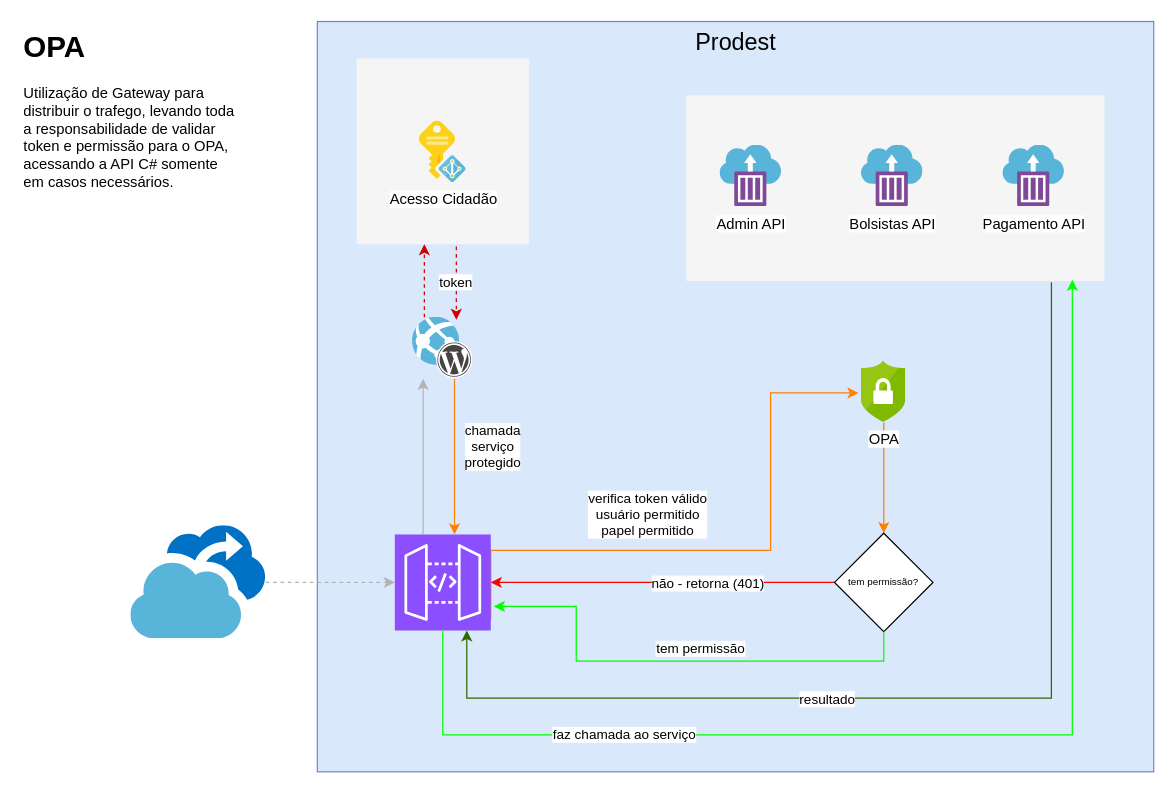
The diagram is 1175 pixels wide and 793 high, and some of its shapes have lost their labels. The shapes that lost their labels are listed below. From the top down, each one's box as (x1, y1, x2, y2) in pixels, then its label:
(356, 58, 528, 244): Serviços Externos
(686, 95, 1104, 280): Serviços Protegidos
(394, 533, 491, 630): Application Gateway
